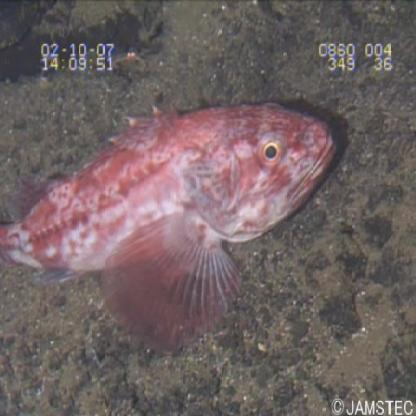Bio: (1, 93, 343, 367)
